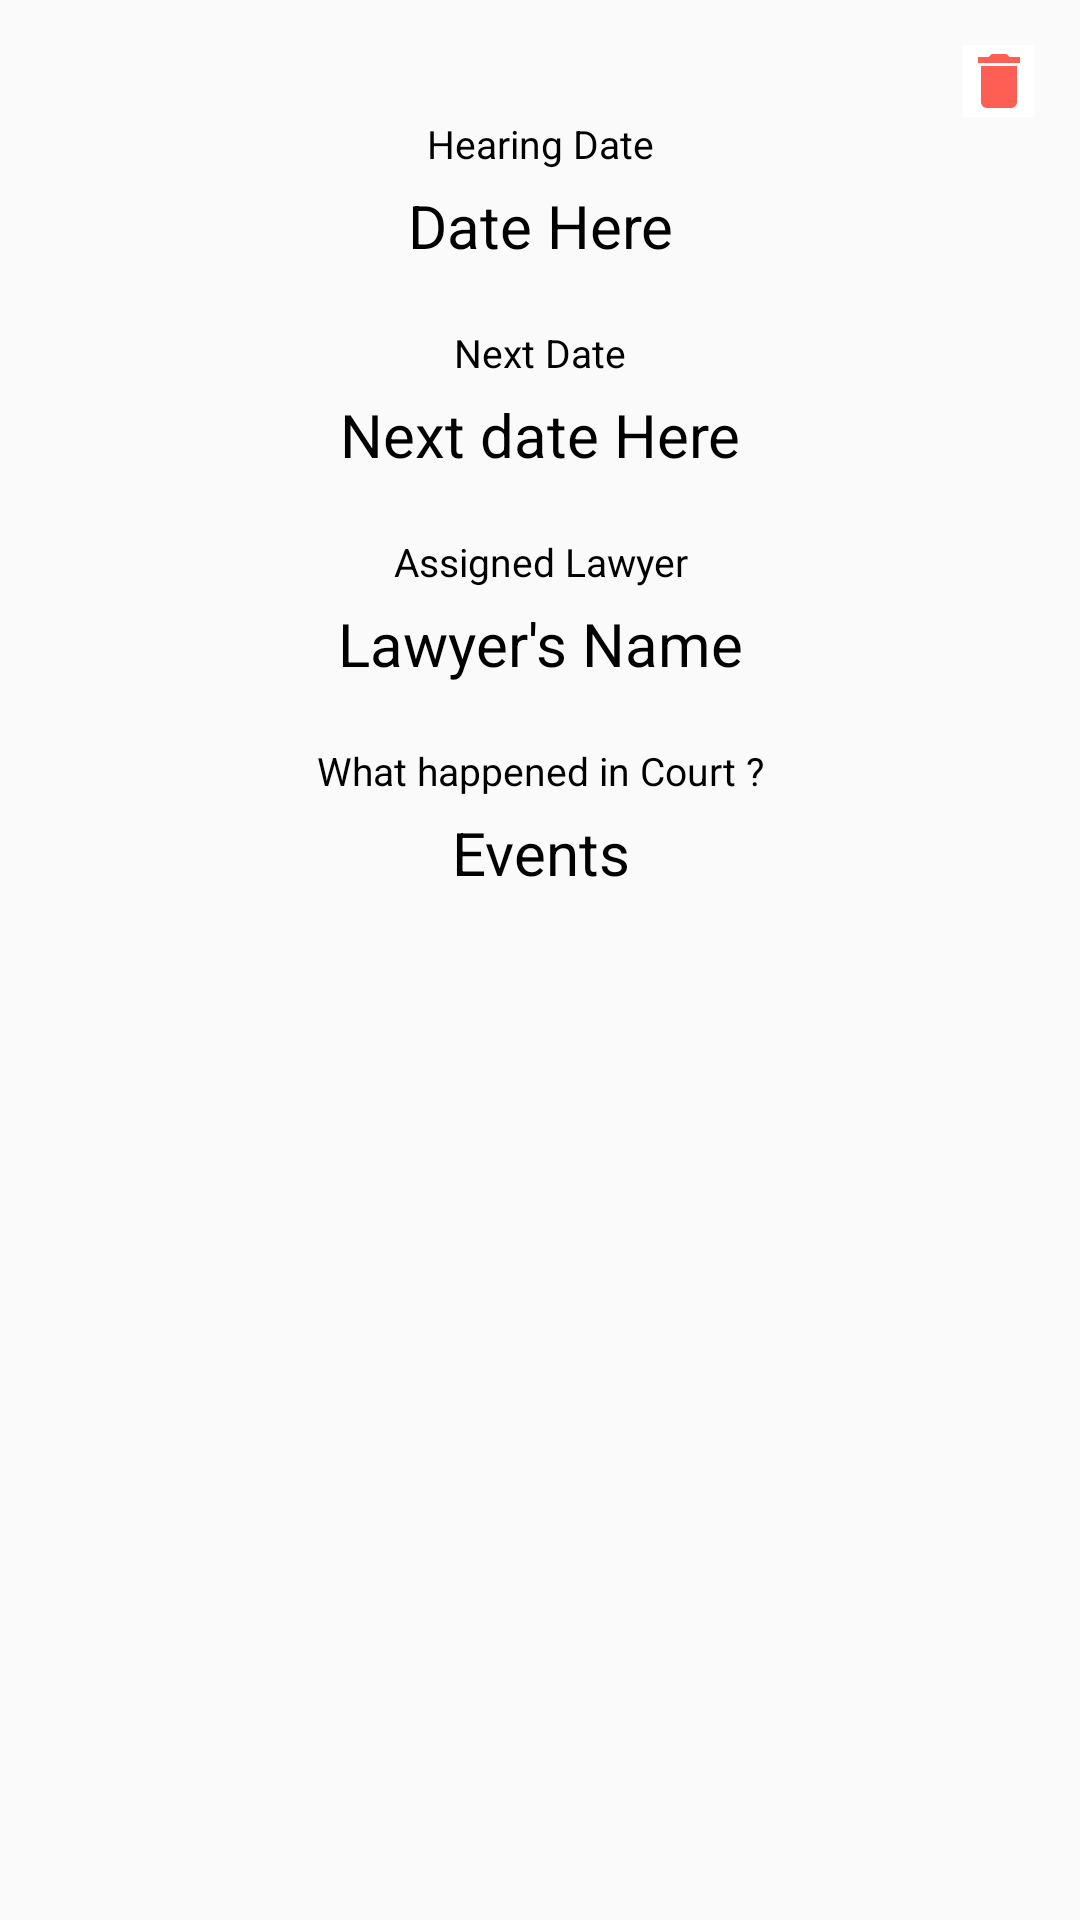

Point at icon controls on the screen. Image size 1080px x 1920px, points as point (x, y).
delete: point (999, 81)
